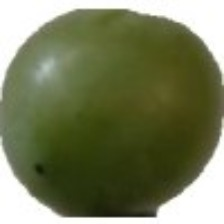grapes: (31, 51, 208, 203)
